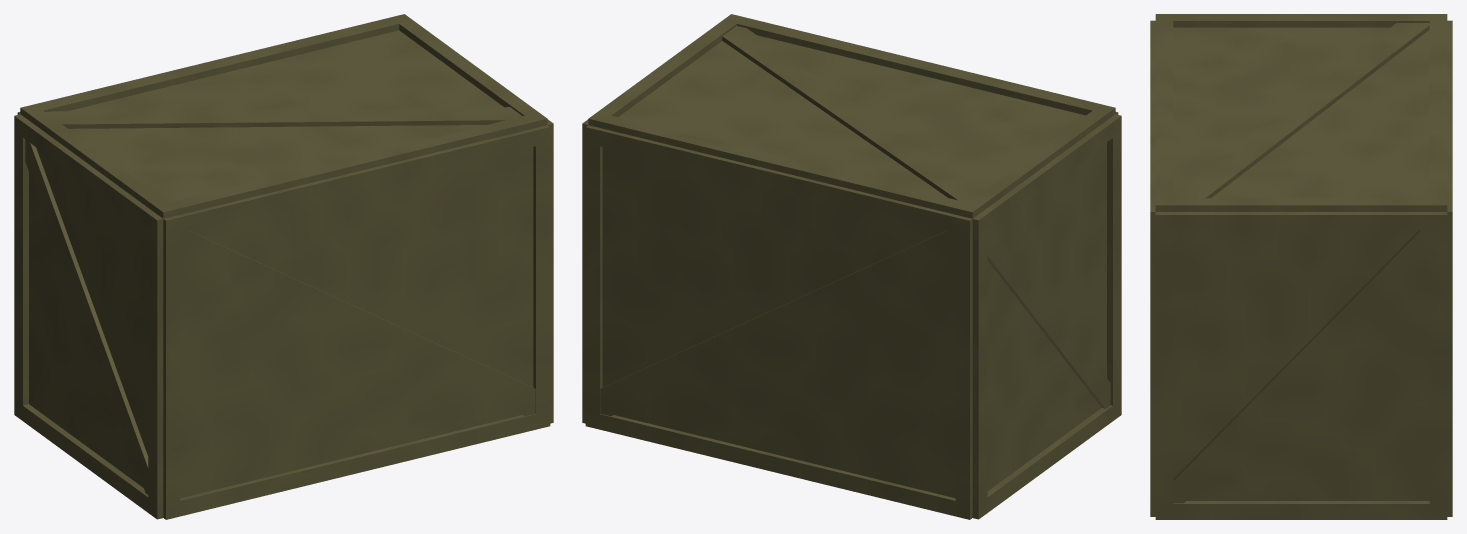
The model's file is BoxGreen.fbx.
3 views of the same model, side by side, from view 1: azimuth 30°, elevation 25°; view 2: azimuth 150°, elevation 25°; view 3: azimuth 270°, elevation 25° (orthographic).
Parts seen in each view (by area): view 1: Cube.013; view 2: Cube.013; view 3: Cube.013.
Boxes of the visible parts, bbox=[...] form: Cube.013: bbox=[14, 14, 553, 519]; Cube.013: bbox=[582, 14, 1121, 519]; Cube.013: bbox=[1150, 14, 1452, 519].
Size of the model in its own units: 269 by 198 by 174.
